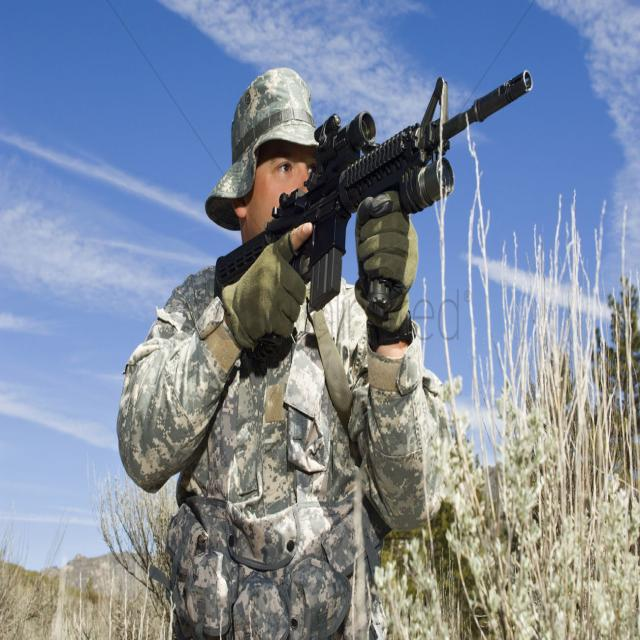soldier: (136, 43, 539, 640)
